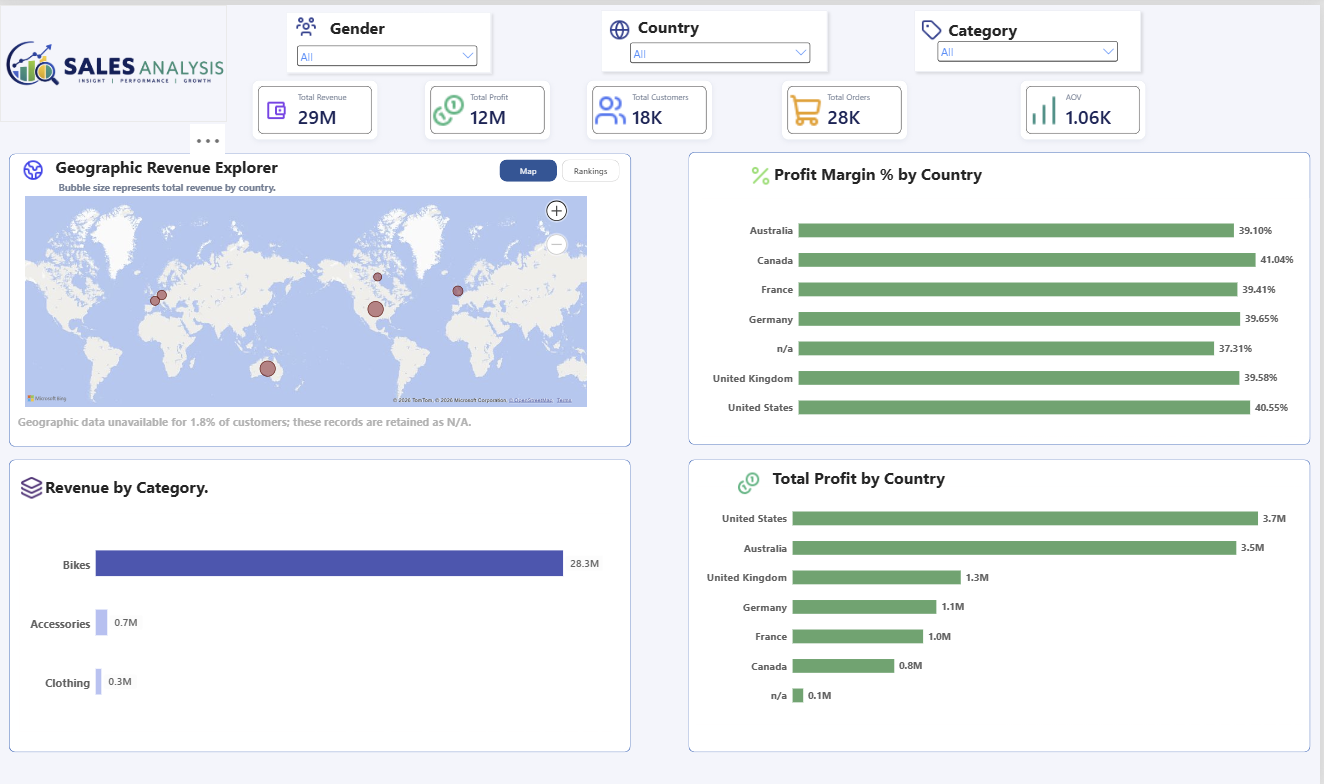

What the dashboard file says about the page in this screenshot:
{"tool":"powerbi","page":{"name":"Geographic Insights","canvas":[2200,1300],"ordinal":1},"visuals":[{"type":"shape","box":[14.8,248.1,1037,488.9],"z":0},{"type":"image","box":[0,0,377.3,195.5],"z":1000},{"type":"shape","title":"Gender","box":[467,2.6,360,120],"z":2000,"group":"g2"},{"type":"map","title":"Geographic Revenue Explorer","fields":{"Category":["gold dim_customers.country"],"Size":["Measure Table.Total Revenue"]},"box":[24.4,304,968.8,381.2],"z":2000},{"type":"slicer","title":"Gender","fields":{"Values":["gold dim_customers.gender"]},"box":[490.5,62.6,310,50],"z":3000,"group":"g2"},{"type":"shape","box":[1148.5,757.6,1036.4,487.9],"z":3000},{"type":"clusteredBarChart","title":"Top 10 Products by Revenue.","fields":{"Category":["gold dim_customers.country"],"Y":["Measure Table.TOTAL PROFIT"]},"box":[1160.6,803,1012.1,397],"z":4000},{"type":"image","box":[493.1,13,35,48.9],"z":5000,"group":"g2"},{"type":"shape","box":[15.2,757.6,1036,488],"z":5000},{"type":"shape","box":[1148.5,245.5,1036.4,487.9],"z":6000,"group":"g1"},{"type":"clusteredBarChart","title":"Revenue by Category.","fields":{"Y":["Measure Table.Total Revenue"],"Category":["gold dim_products.category"]},"box":[33.3,848.5,987.9,363.6],"z":6000},{"type":"clusteredBarChart","title":"Top 10 Products by Revenue.","fields":{"Y":["Measure Table.Profit Margin %"],"Category":["gold dim_customers.country"]},"box":[1171.3,322.9,1012.1,397],"z":7000,"group":"g1"},{"type":"textbox","box":[29.6,663,992.6,51.9],"z":7000},{"type":"textbox","box":[511.3,20.9,173.3,55.6],"z":8000,"group":"g2"},{"type":"cardVisual","title":"Total Revenue","fields":{"Data":["Measures (2).Total Revenue"]},"box":[421,125.3,210,100],"z":8000,"group":"g3"},{"type":"textbox","box":[92.3,233.4,401.6,67.8],"z":8000},{"type":"cardVisual","title":"Total Revenue","fields":{"Data":["Measure Table.TOTAL PROFIT"]},"box":[708,126,210,100],"z":9000,"group":"g3"},{"type":"image","box":[32.6,257.8,45,35],"z":9000},{"type":"cardVisual","title":"Total Revenue","fields":{"Data":["Measure Table.No of Customer"]},"box":[977.8,125.9,210,100],"z":10000,"group":"g3"},{"type":"cardVisual","title":"Total Revenue","fields":{"Data":["Measure Table.Total Orders"]},"box":[1303.7,125.9,210,100],"z":11000,"group":"g3"},{"type":"bookmarkNavigator","title":"MAP","box":[832,258,200,37.5],"z":11000},{"type":"shape","title":"Gender","box":[992.6,0,395.6,120],"z":12000,"group":"g2"},{"type":"cardVisual","title":"Total Revenue","fields":{"Data":["Measure Table.AOV"]},"box":[1700,125.9,210,100],"z":12000,"group":"g3"},{"type":"textbox","box":[1288.6,771.2,387.9,60.6],"z":12000},{"type":"shape","title":"Gender","box":[1514.9,0,395.6,120],"z":13000,"group":"g2"},{"type":"image","box":[1225.2,778.6,45,39],"z":13000},{"type":"slicer","title":"Gender","fields":{"Values":["gold dim_products.category"]},"box":[1556.1,54.1,310,50],"z":14000,"group":"g2"},{"type":"textbox","box":[75.8,784.8,293.9,63.6],"z":14000},{"type":"slicer","title":"Gender","fields":{"Values":["gold dim_customers.country"]},"box":[1043.9,58.6,310,50],"z":15000,"group":"g2"},{"type":"image","box":[30.3,784.8,45,39],"z":15000},{"type":"textbox","box":[1555.1,21.7,173.3,55.6],"z":16000,"group":"g2"},{"type":"group","id":"g1","title":"Group 2","box":[1148.5,245.5,1036.4,487.9],"z":16000},{"type":"group","id":"g2","title":"Group 3","box":[467,0,1443.4,122.6],"z":17000},{"type":"image","box":[1014.9,18.5,35,48],"z":17000,"group":"g2"},{"type":"textbox","box":[1026,18.5,173.3,55.6],"z":18000,"group":"g2"},{"type":"group","id":"g3","title":"Group 4","box":[421,125.3,1489,100.7],"z":18000},{"type":"textbox","box":[97.7,293.1,472.2,29.9],"z":19000},{"type":"image","box":[1533.4,18.5,35,48.1],"z":24000,"group":"g2"},{"type":"textbox","box":[1290.9,263.7,387.9,60.6],"z":31000,"group":"g1"},{"type":"image","box":[1245.5,266.7,45,39],"z":32000,"group":"g1"}]}

Visuals, with their boxes in screenshot pixels (x1, y1, x2, y2), scaled from the page's 2200x1300 canvas onto the 1324x784 screenshot:
shape: 9, 150, 633, 444
image: 0, 0, 227, 118
"Gender" shape: 281, 2, 498, 74
"Geographic Revenue Explorer" map: 15, 183, 598, 413
"Gender" slicer: 295, 38, 482, 68
shape: 691, 457, 1315, 751
"Top 10 Products by Revenue." clusteredBarChart: 698, 484, 1308, 724
image: 297, 8, 318, 37
shape: 9, 457, 633, 751
shape: 691, 148, 1315, 442
"Revenue by Category." clusteredBarChart: 20, 512, 615, 731
"Top 10 Products by Revenue." clusteredBarChart: 705, 195, 1314, 434
textbox: 18, 400, 615, 431
textbox: 308, 13, 412, 46
"Total Revenue" cardVisual: 253, 76, 380, 136
textbox: 56, 141, 297, 182
"Total Revenue" cardVisual: 426, 76, 552, 136
image: 20, 155, 47, 177
"Total Revenue" cardVisual: 588, 76, 715, 136
"Total Revenue" cardVisual: 785, 76, 911, 136
"MAP" bookmarkNavigator: 501, 156, 621, 178
"Gender" shape: 597, 0, 835, 72
"Total Revenue" cardVisual: 1023, 76, 1149, 136
textbox: 776, 465, 1009, 502
"Gender" shape: 912, 0, 1150, 72
image: 737, 470, 764, 493
"Gender" slicer: 936, 33, 1123, 63
textbox: 46, 473, 222, 512
"Gender" slicer: 628, 35, 815, 65
image: 18, 473, 45, 497
textbox: 936, 13, 1040, 47
"Group 2" group: 691, 148, 1315, 442
"Group 3" group: 281, 0, 1150, 74
image: 611, 11, 632, 40
textbox: 617, 11, 722, 45
"Group 4" group: 253, 76, 1149, 136
textbox: 59, 177, 343, 195
image: 923, 11, 944, 40
textbox: 777, 159, 1010, 196
image: 750, 161, 777, 184
